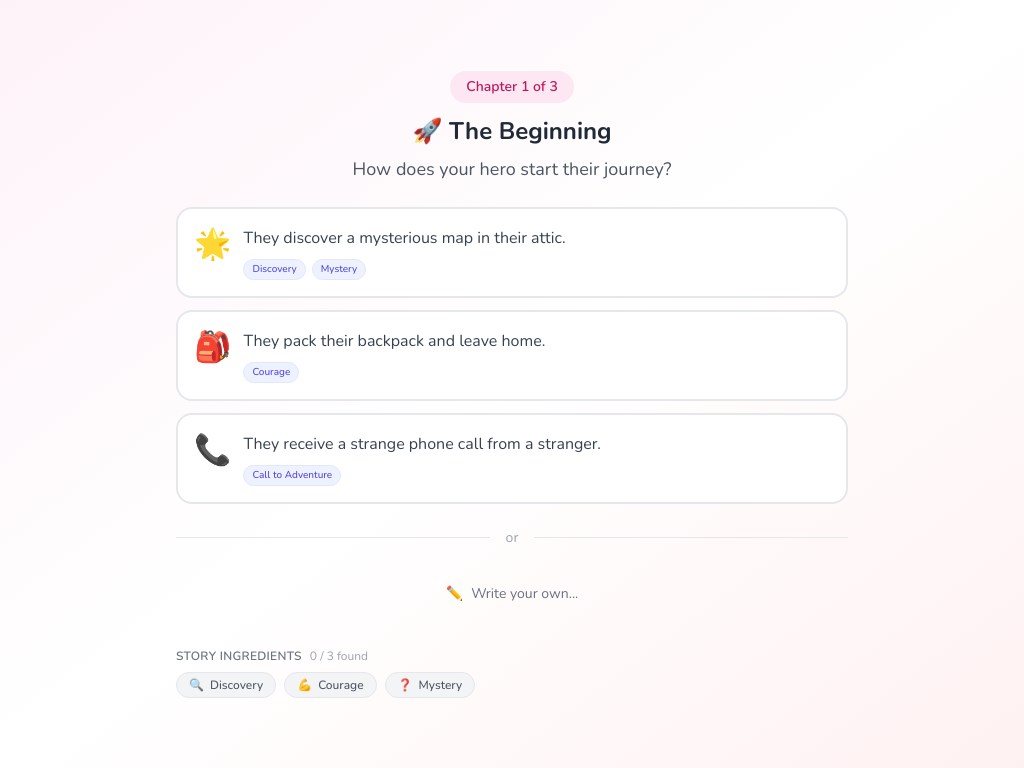
Test: ChapterScreen › requires minimum text length for custom input
Click the text "Write your own..." at coordinates (525, 594), box [471, 584, 578, 604]
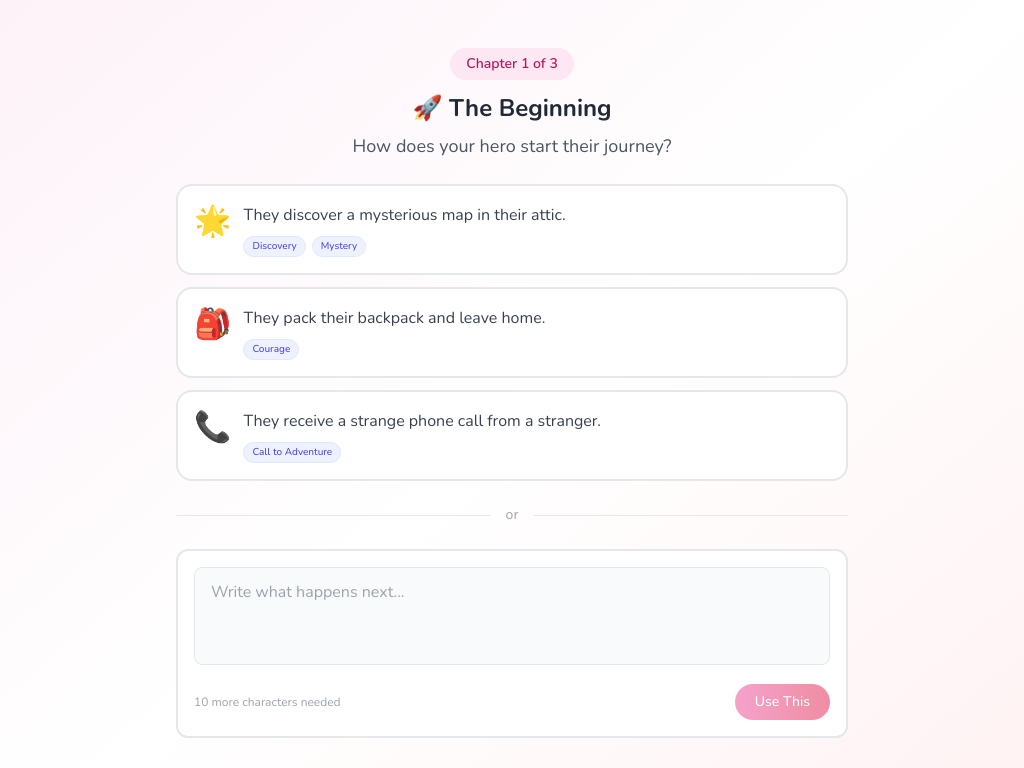
Should be disabled with short text
Type "Short" into the text box with placeholder "Write what happens next..." at coordinates (512, 616), box [194, 567, 830, 665]
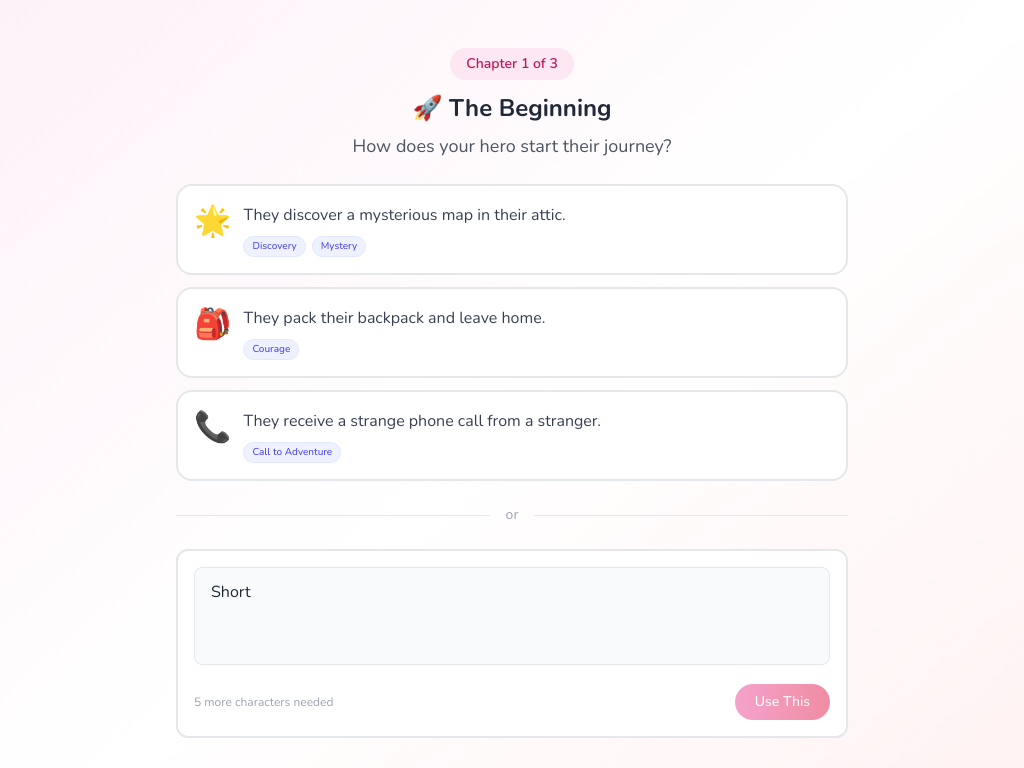
Expected: the button "Use This" is disabled, [735, 684, 830, 720]
Expected: the text "5 more characters needed" is shown, [194, 694, 333, 710]
Should be enabled with sufficient text
Replace the text in the text box with placeholder "Write what happens next..." with "This is a long enough custom story choice text." at coordinates (512, 616), box [194, 567, 830, 665]
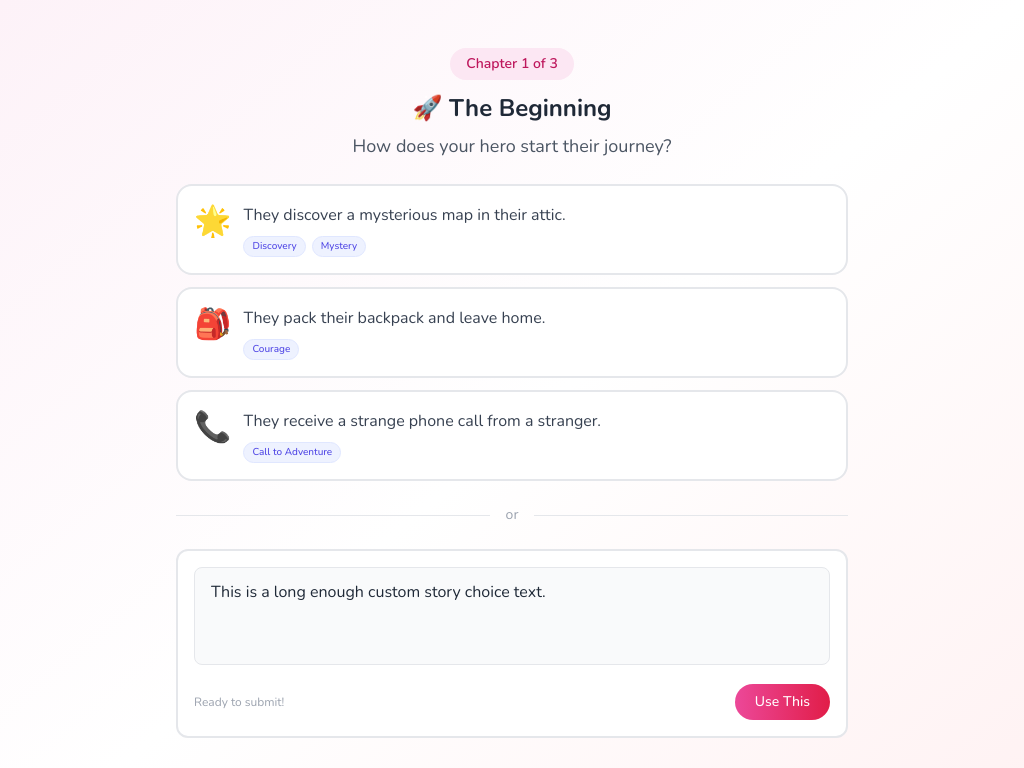
Expected: the button "Use This" is enabled, [735, 684, 830, 720]
Expected: the text "Ready to submit!" is shown, [194, 694, 284, 710]
